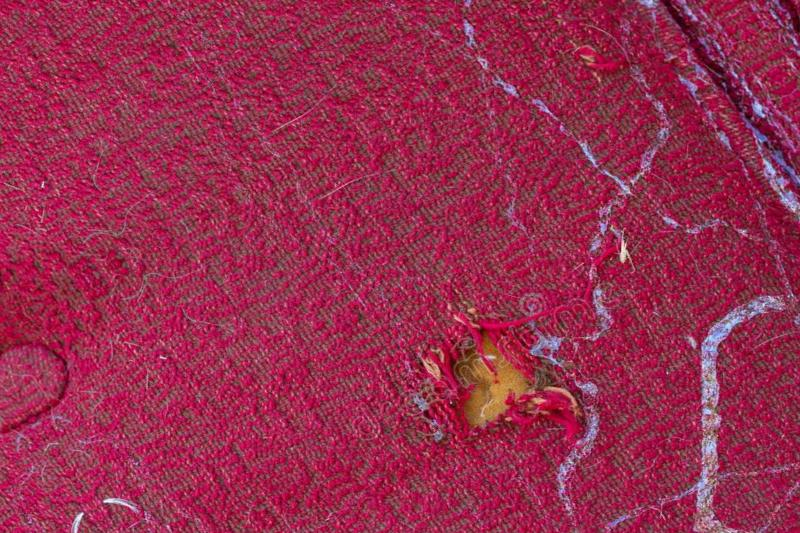hole: (431, 312, 583, 447)
